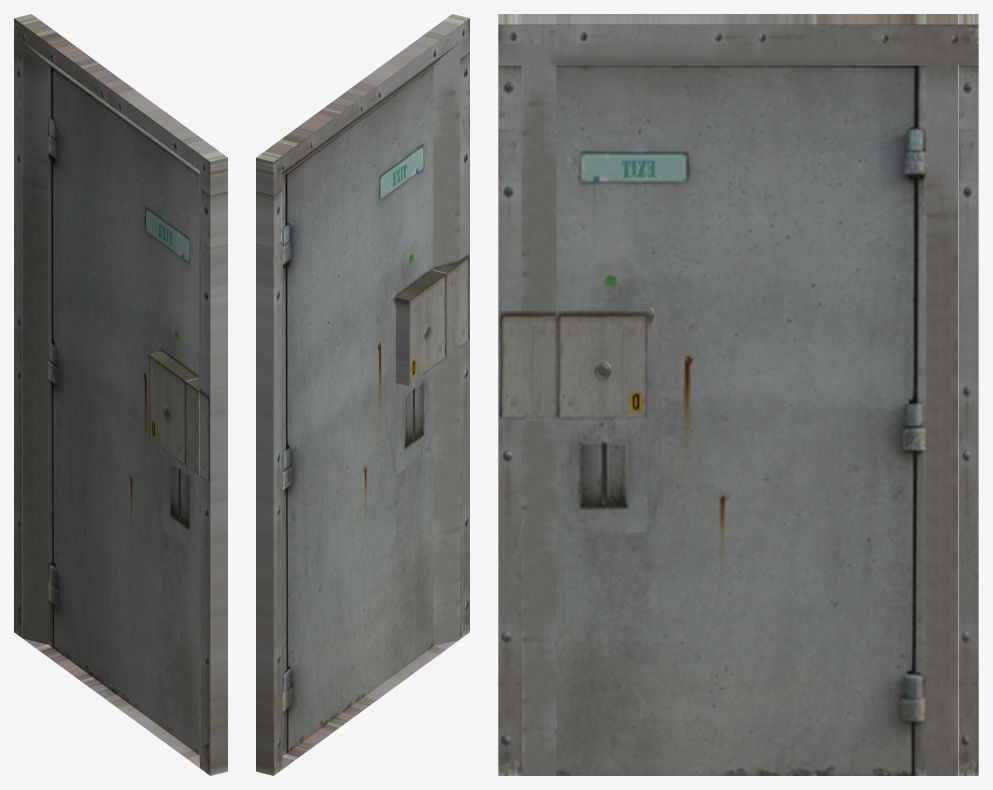
Rendered from door.fbx.
3 renders of one model, left to right at view 1: azimuth 30°, elevation 25°; view 2: azimuth 150°, elevation 25°; view 3: azimuth 270°, elevation 25°, orthographic. The views are drawn at different scales.
Visible parts, largest first — view 1: Cube; view 2: Cube; view 3: Cube.
Part boxes in pixels (bbox=[...]): Cube: bbox=[14, 14, 227, 775]; Cube: bbox=[256, 14, 469, 775]; Cube: bbox=[498, 14, 978, 775].
Bounding box in the file's own units: 0.2038 × 6.68 × 3.87.
1 material, 1 textured.
